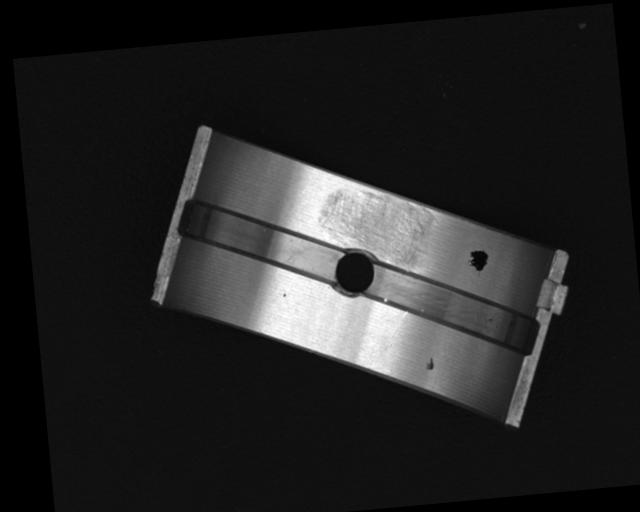blot: (467, 249, 489, 272)
bruise: (424, 356, 437, 373), (282, 292, 287, 298)
gap: (363, 246, 543, 369), (171, 184, 344, 297)
hole: (327, 245, 383, 302)
nick: (382, 311, 412, 350)
scratch: (313, 179, 441, 273)
